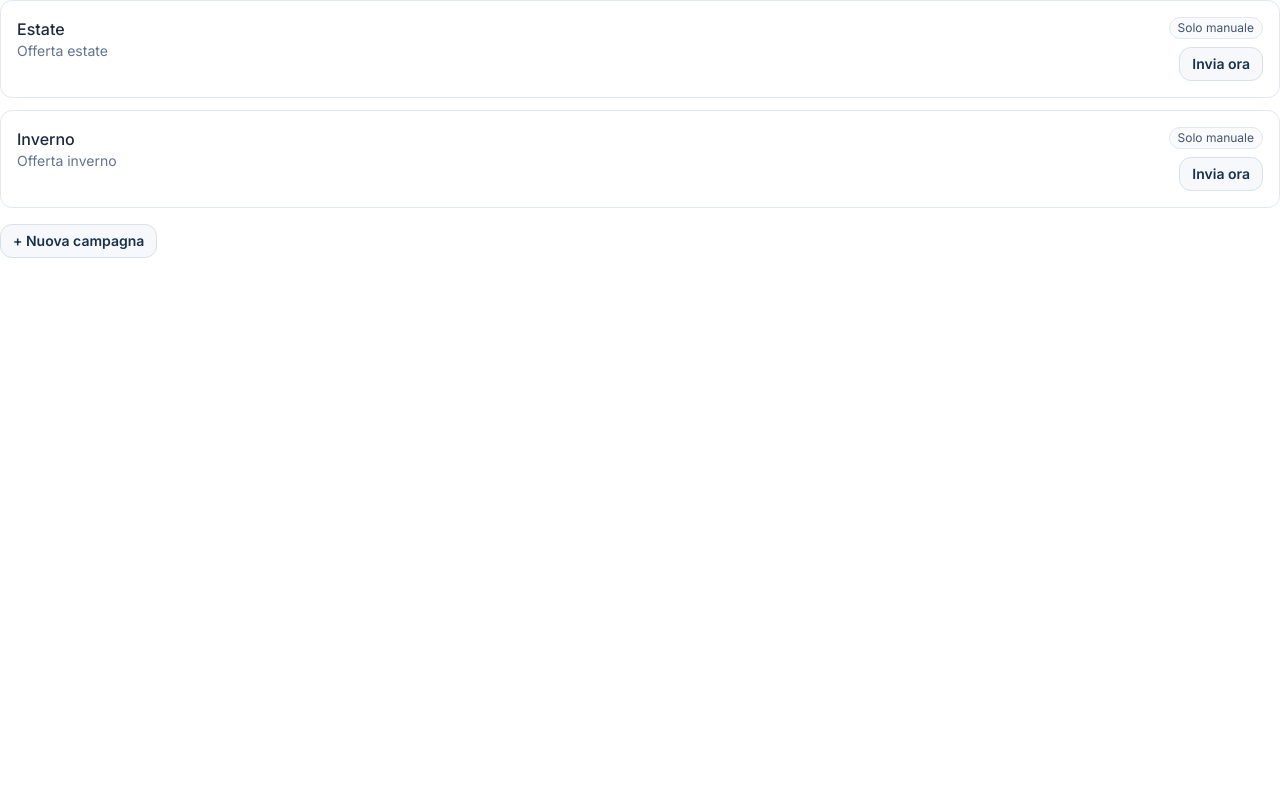
Test: CampaignsManager — toggle riga campagna › «Invia ora» non toggla l'editor — apre solo la modale di conferma invio
Click the 1st button "Invia ora" at (1221, 64), box [1179, 47, 1263, 81]
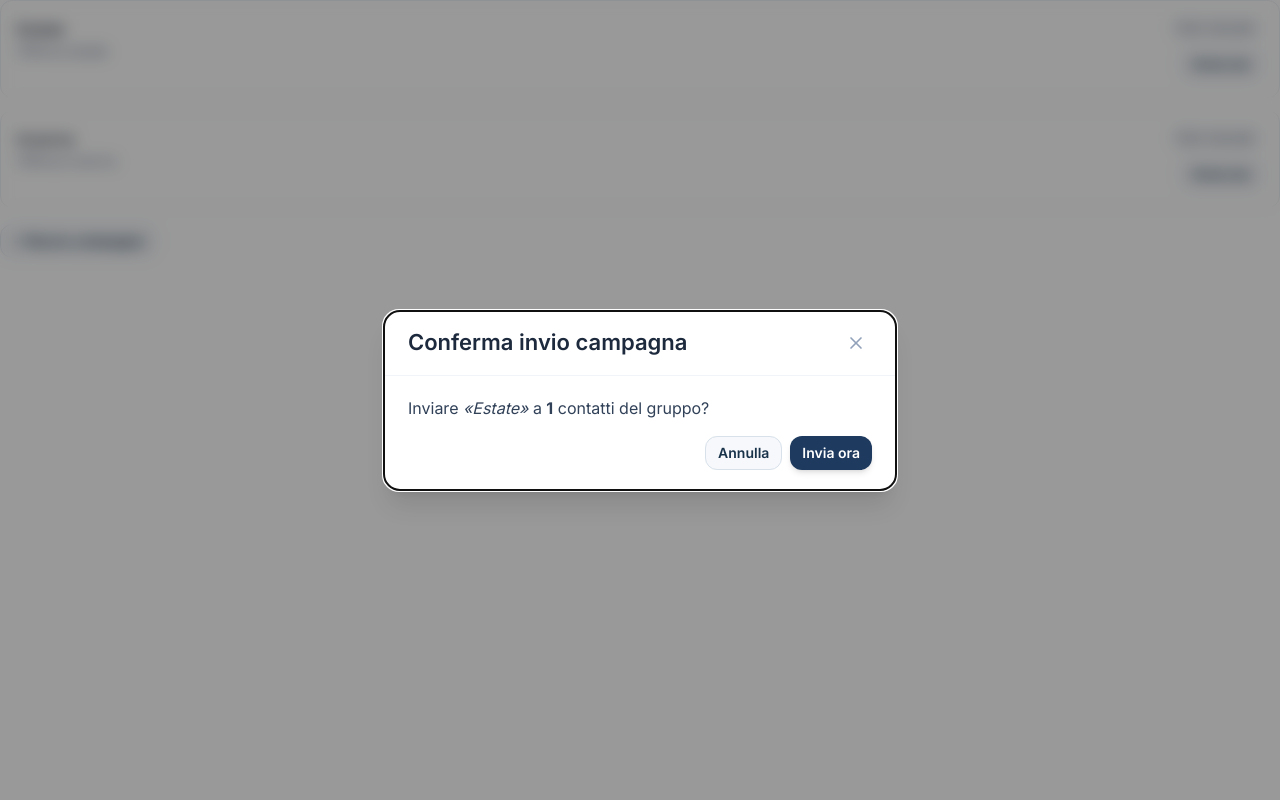
Now the dialog "Conferma invio campagna" is shown
